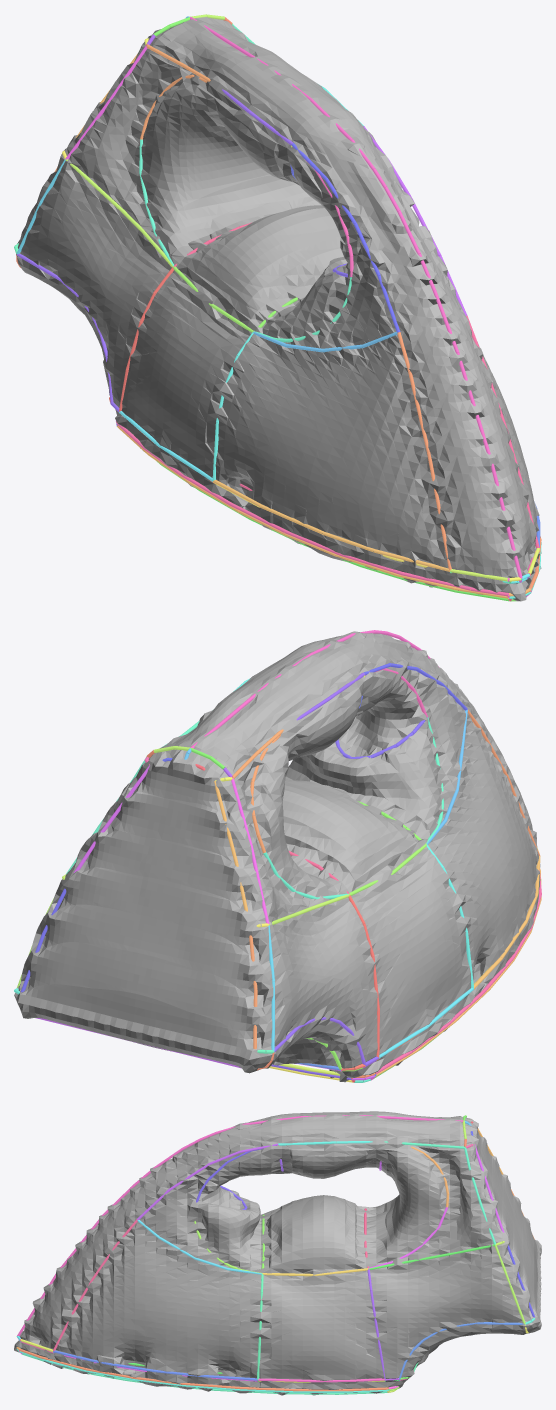
The model's file is onshape_iron.gltf.
3 renders of one model, top to bottom at view 1: azimuth 30°, elevation 25°; view 2: azimuth 150°, elevation 25°; view 3: azimuth 270°, elevation 25°, orthographic. The views are drawn at different scales.
Size of the model in its own units: 0.3413 by 0.437 by 0.8548.
